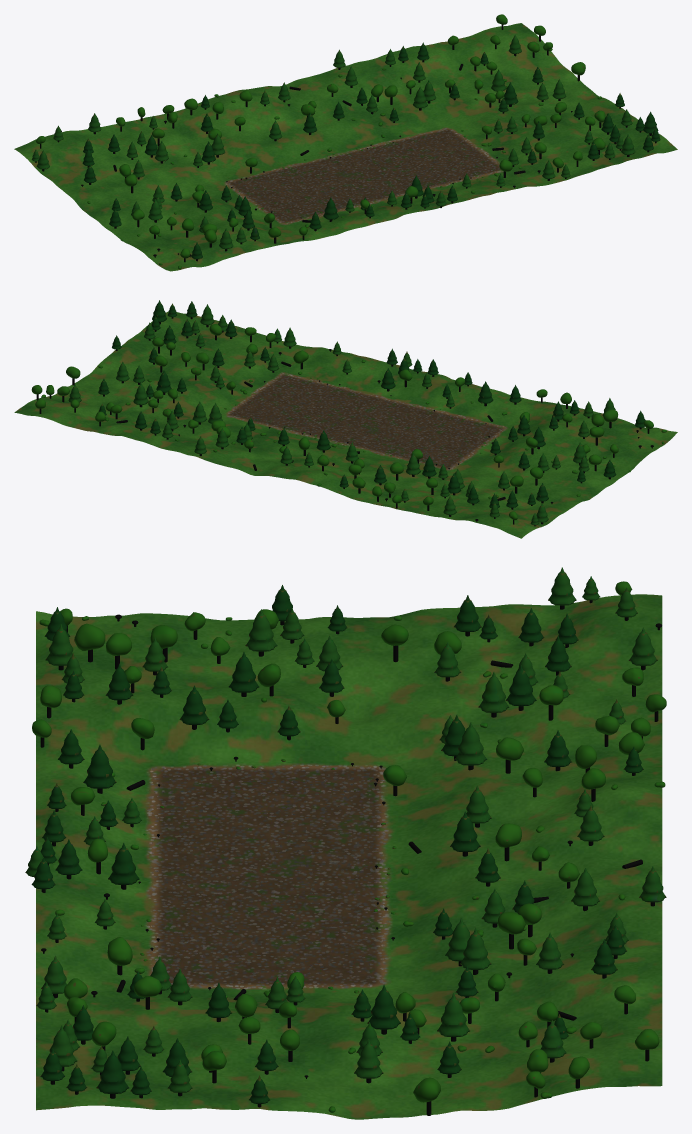
File: surroundings_29x11.glb
3 views of the same model, one above another, from view 1: azimuth 30°, elevation 25°; view 2: azimuth 150°, elevation 25°; view 3: azimuth 270°, elevation 25° (orthographic). The views are drawn at different scales.
Parts seen in each view (by area): view 1: ground, props; view 2: ground, props; view 3: ground, props.
Part boxes in pixels (<box>): ground: <box>14,23,677,271</box>; props: <box>31,14,660,269</box>; ground: <box>14,311,677,538</box>; props: <box>31,300,666,526</box>; ground: <box>36,594,662,1119</box>; props: <box>25,567,666,1115</box>.
Bounding box in the file's own units: 73.92 × 5.49 × 39.96.
2 materials, 2 textured.
